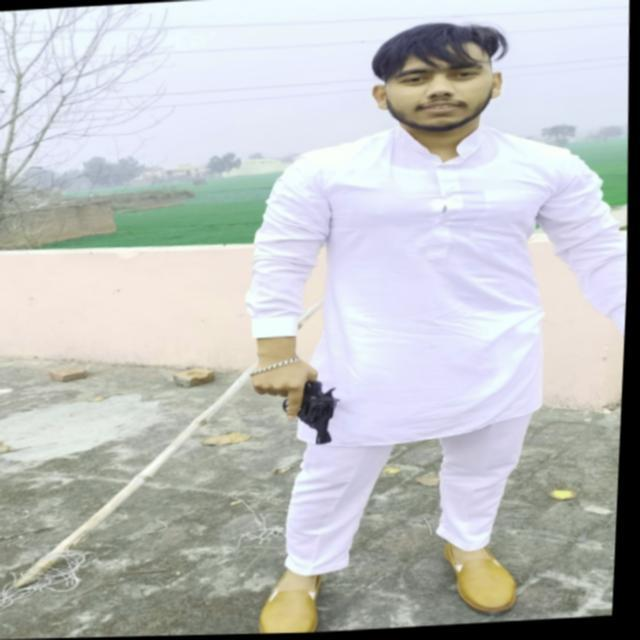weapon: (247, 374, 350, 452)
